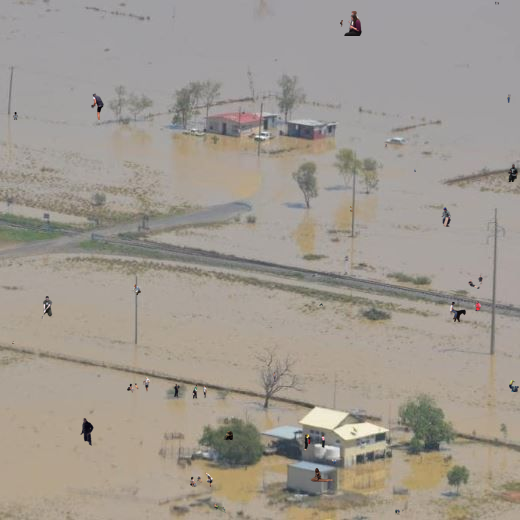Human: (441, 302, 466, 322), (174, 384, 207, 399), (304, 434, 333, 451), (344, 11, 362, 36), (80, 418, 94, 448), (308, 468, 335, 483), (127, 377, 150, 393), (91, 93, 104, 120), (190, 472, 213, 487), (41, 296, 53, 319), (439, 207, 451, 227), (468, 275, 483, 289), (508, 164, 518, 182), (467, 301, 481, 311), (509, 380, 519, 392), (214, 503, 226, 513), (220, 431, 233, 440), (133, 284, 141, 295), (395, 509, 404, 515), (13, 112, 18, 120), (507, 94, 511, 103), (273, 372, 276, 383), (495, 1, 501, 5), (340, 20, 343, 27), (332, 459, 336, 464), (350, 206, 353, 212), (319, 303, 323, 307), (12, 341, 15, 344), (414, 168, 416, 172), (385, 144, 387, 147), (40, 272, 42, 274), (97, 40, 99, 42), (429, 408, 430, 412)
